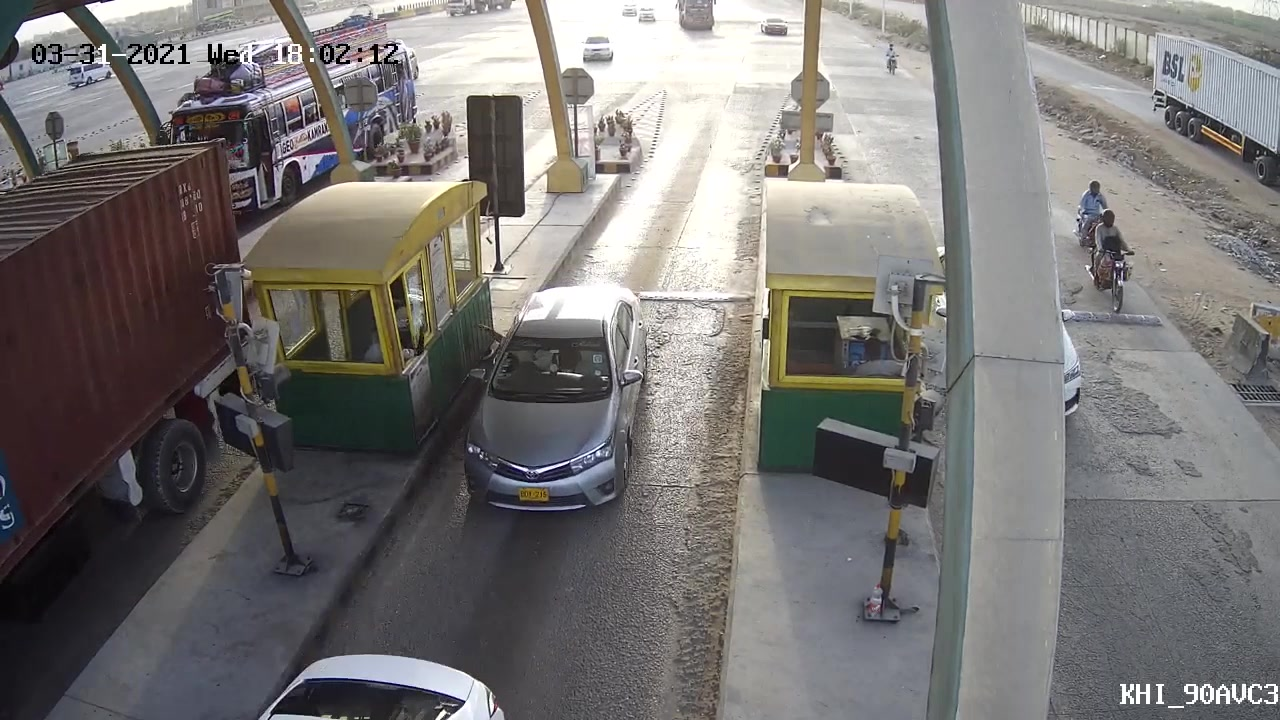F1: (454, 280, 656, 520)
